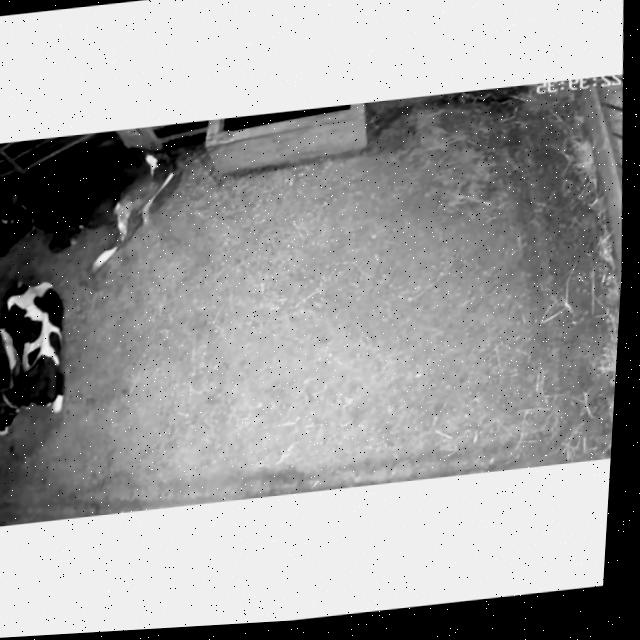lay: (0, 134, 189, 287), (0, 267, 84, 455)
